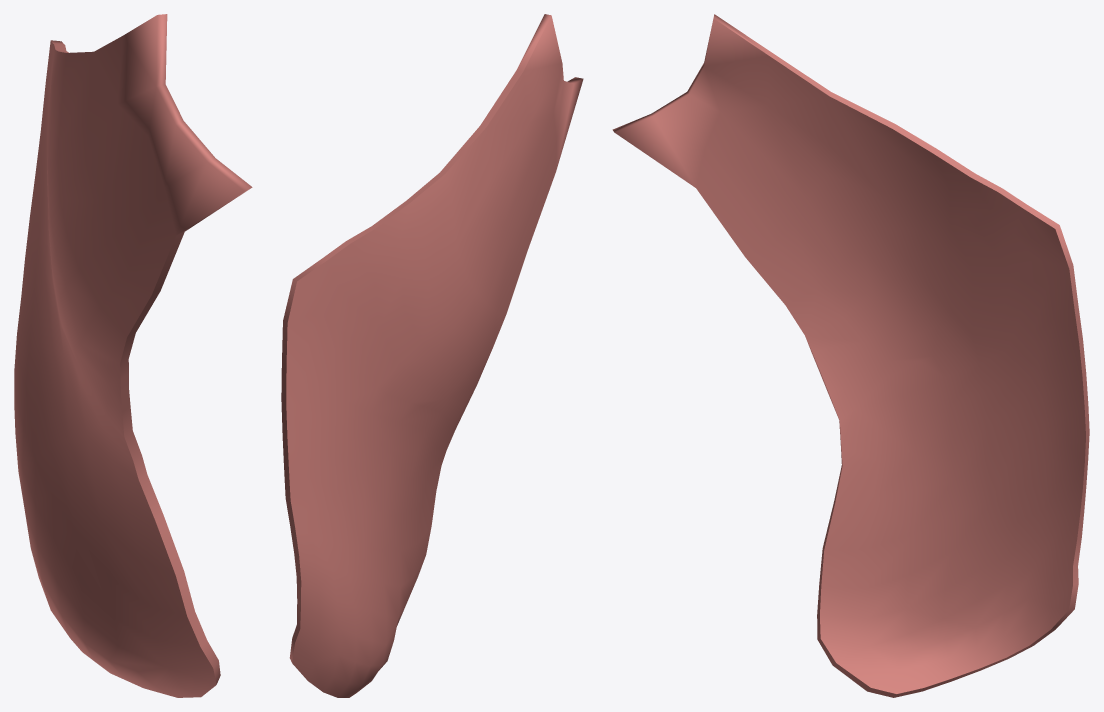
3 views of the same model, side by side, from view 1: azimuth 30°, elevation 25°; view 2: azimuth 150°, elevation 25°; view 3: azimuth 270°, elevation 25° (orthographic). The views are drawn at different scales.
Parts seen in each view (by area): view 1: ZA_1021f91732ce4bfc; view 2: ZA_1021f91732ce4bfc; view 3: ZA_1021f91732ce4bfc.
Part boxes in pixels (x1,y1,x2,y2): ZA_1021f91732ce4bfc: (14, 14, 252, 697); ZA_1021f91732ce4bfc: (281, 14, 583, 697); ZA_1021f91732ce4bfc: (612, 14, 1089, 697).
Size of the model in its own units: 0.016 by 0.0795 by 0.0544.
